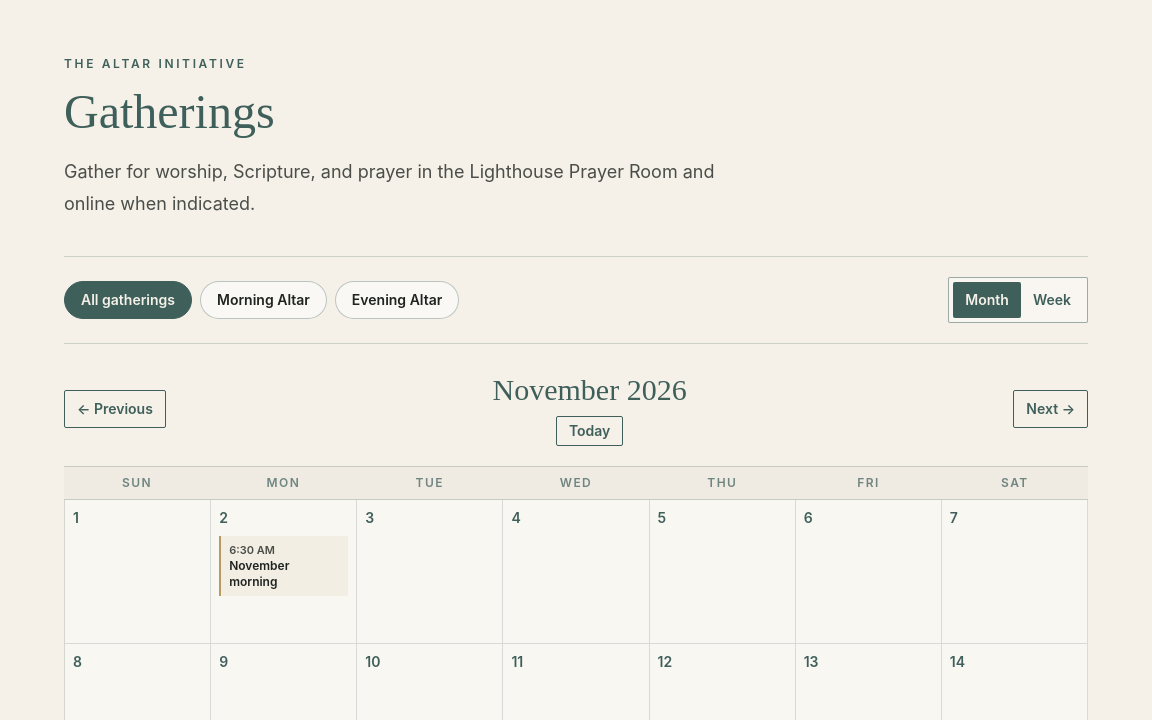
Test: places a November morning in the correct mobile and desktop day, regardless of browser zone
Check: the text "2" is shown, box [219,509,228,526]
Step 1. Click the button "Week" → (1052, 300), box [1021,282,1083,318]
(page scrolled)
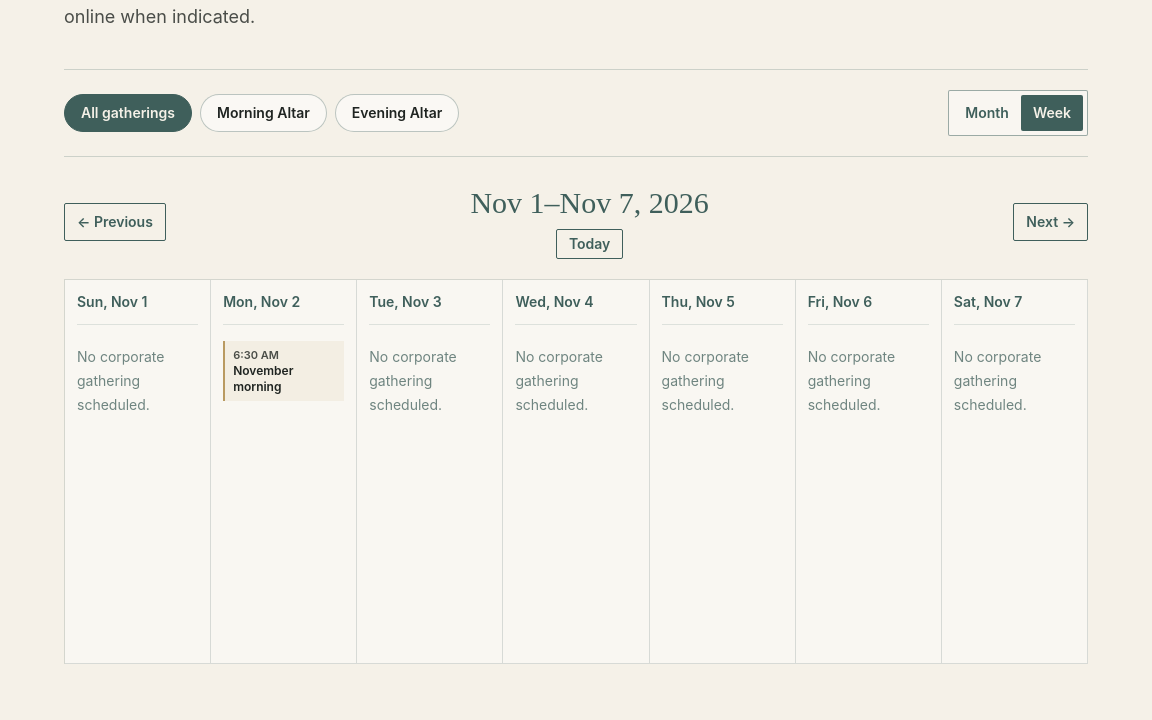
Check: the heading "Nov 1–Nov 7, 2026" is shown, box [470,185,709,221]
Check: the text "November morning" shows "Mon, Nov 2", box [223,293,300,310]
